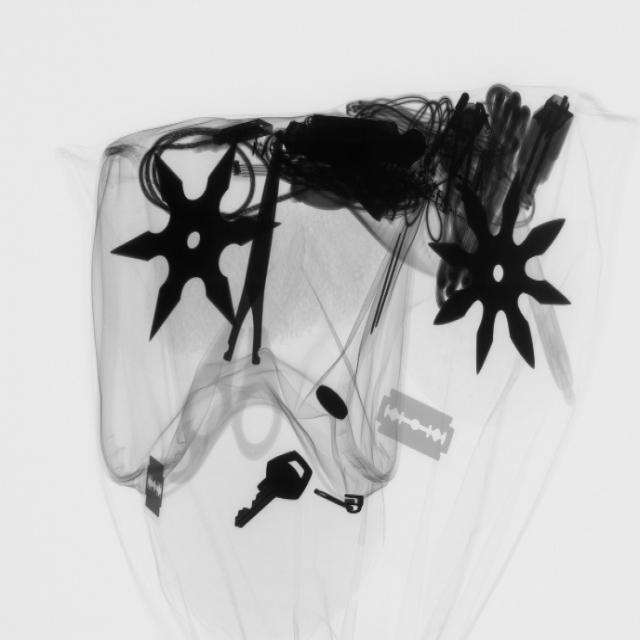BLADE: (372, 383, 463, 467), (134, 451, 173, 524)
SHURIKEN: (117, 142, 268, 353), (430, 173, 573, 380)
